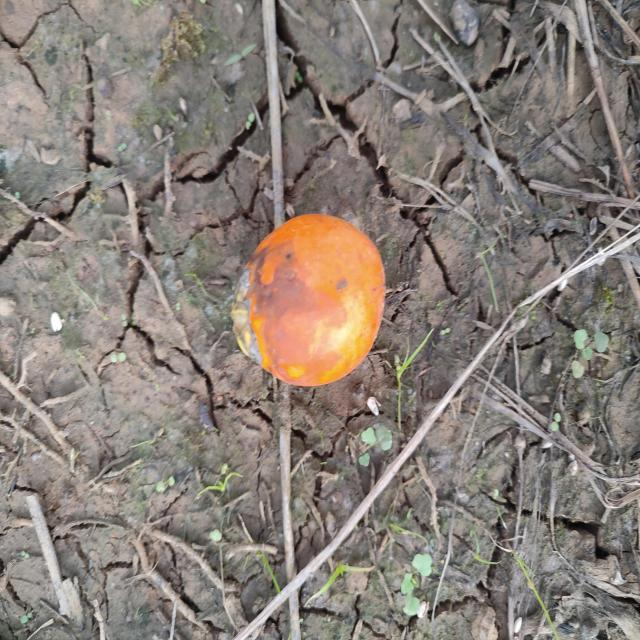good: (231, 214, 387, 390)
